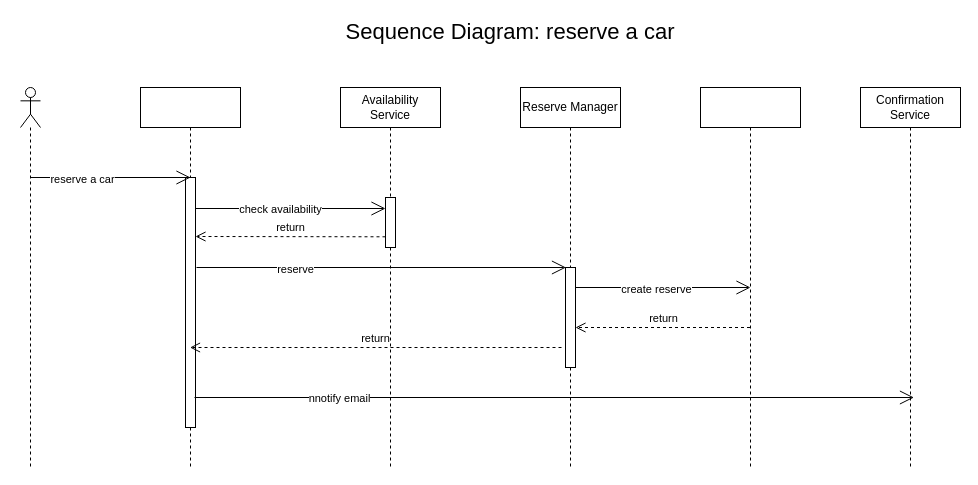
This 978x485 diagram has some shape labels left out. The box of each missing label's shape, as (x1, y1, x2, y2) in pixels:
Database: (700, 86, 800, 468)
Reservation UI: (140, 86, 240, 468)
